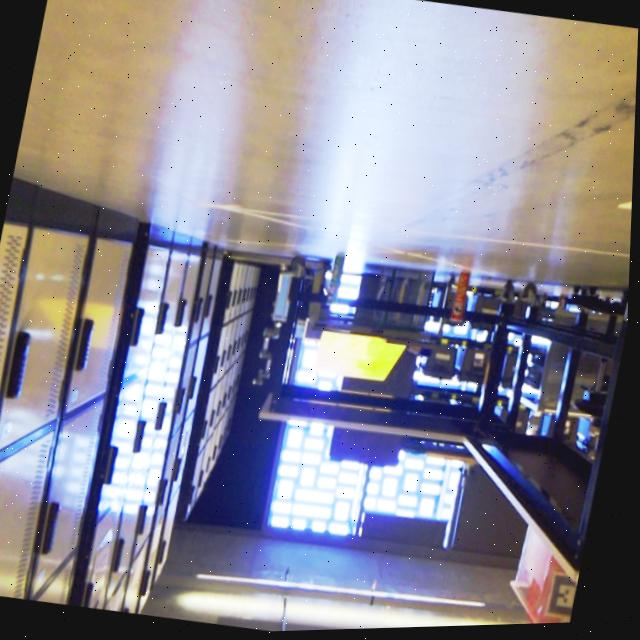greenpringles: (322, 255, 354, 310)
redpringles: (445, 257, 484, 334)
